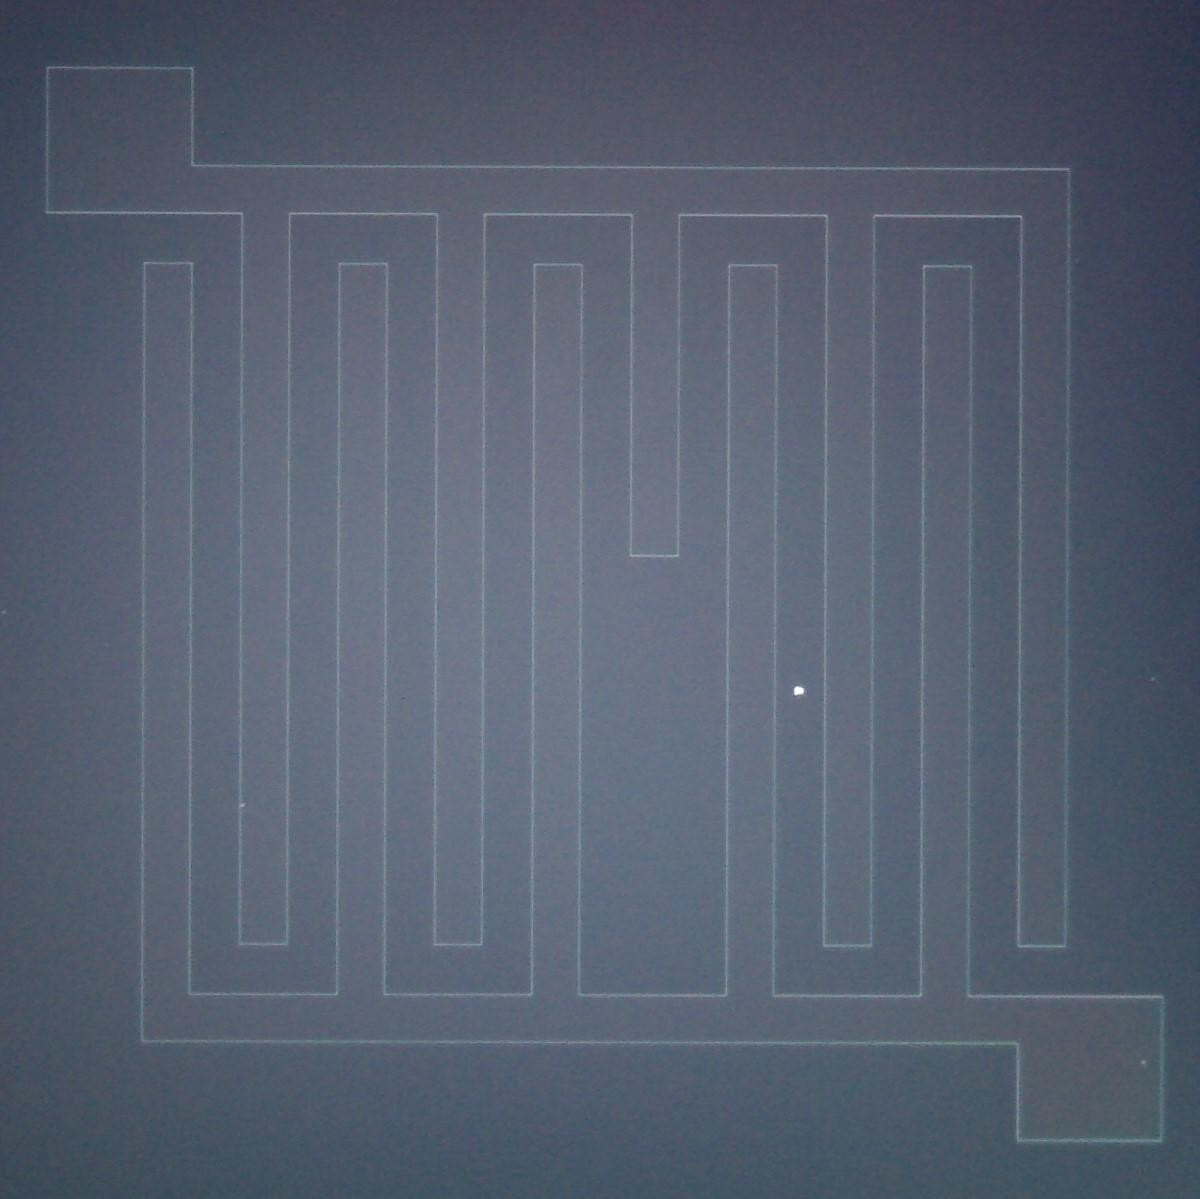B_point: (790, 676, 814, 710)
s_point: (0, 608, 9, 616), (238, 803, 246, 808)
short: (565, 155, 745, 1018)
